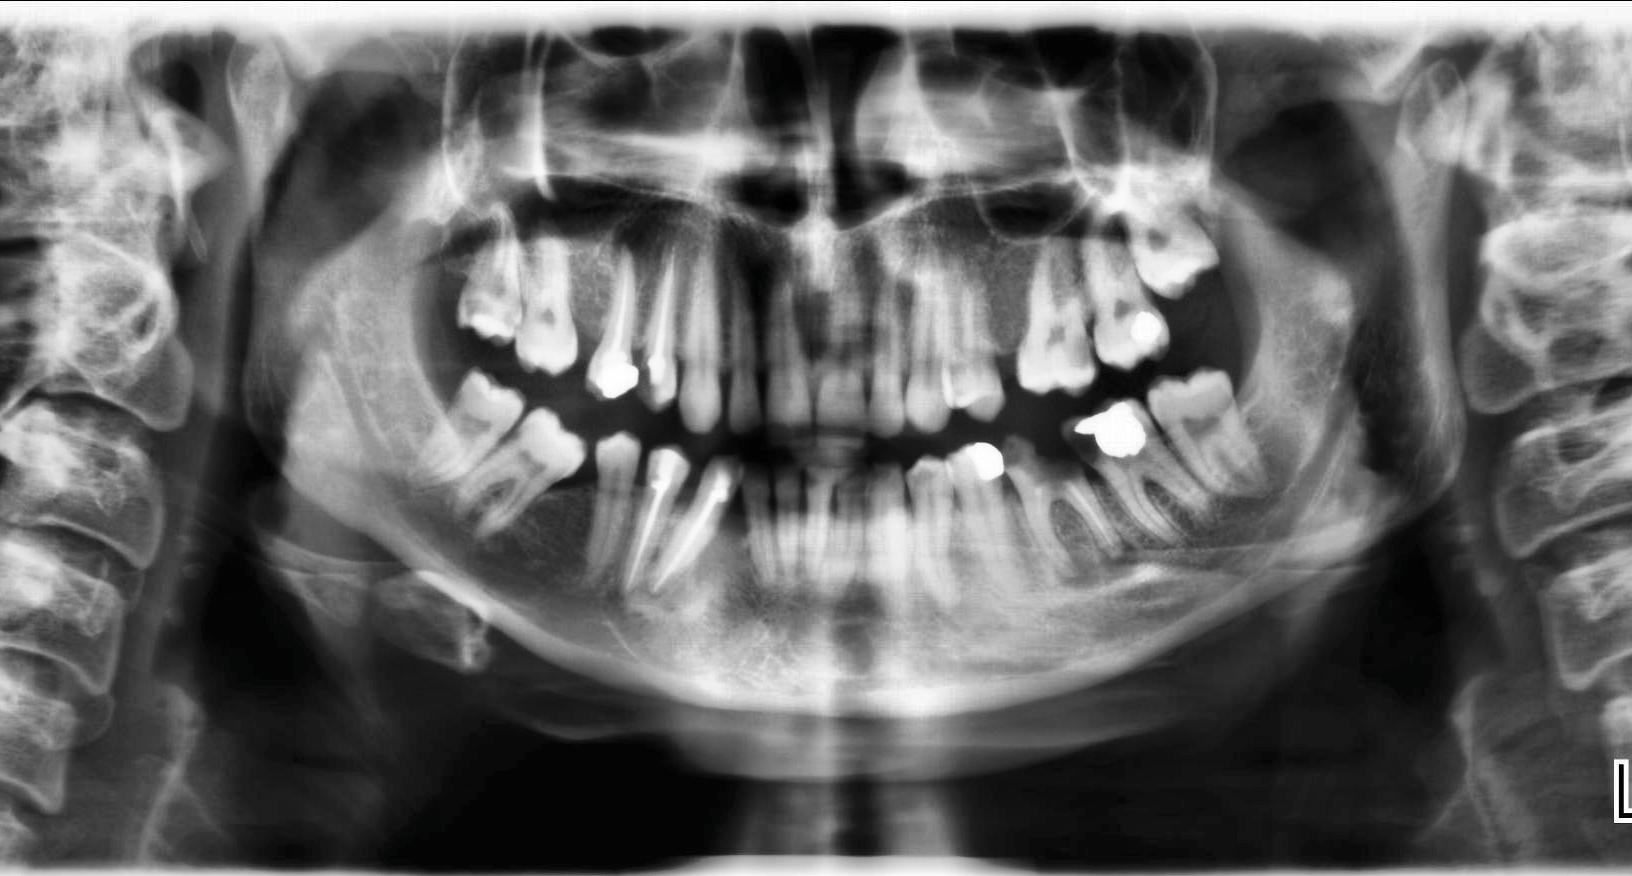radikuler: (598, 206, 663, 291)
